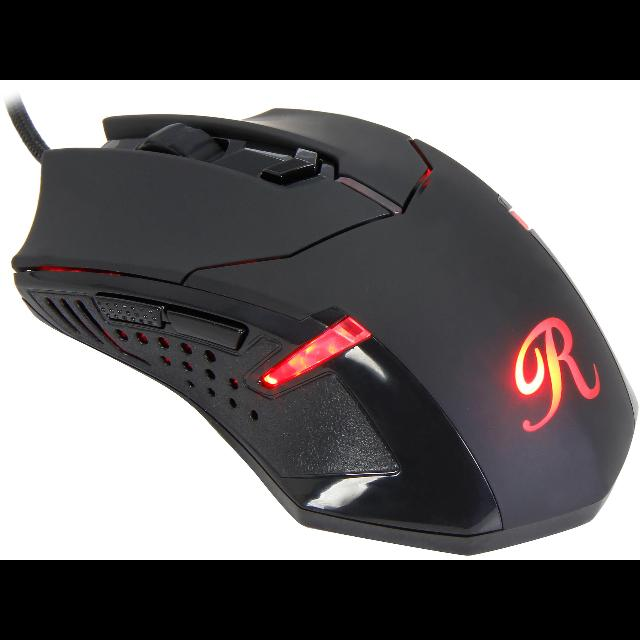Computer-Mouse: (8, 95, 640, 557)
